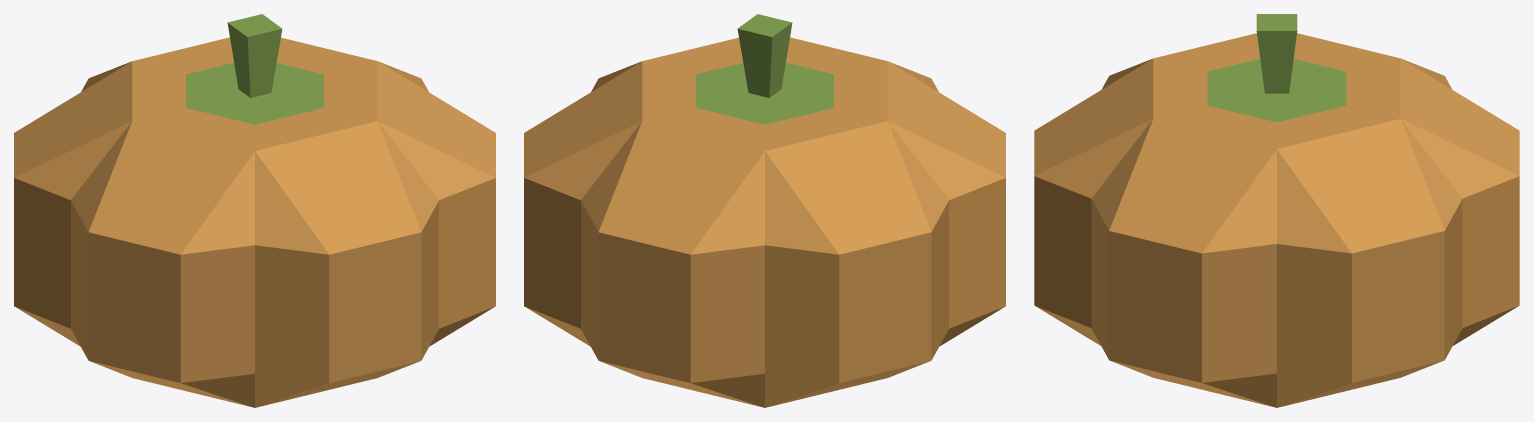
File: crop_pumpkin.glb
3 views of the same model, side by side, from view 1: azimuth 30°, elevation 25°; view 2: azimuth 150°, elevation 25°; view 3: azimuth 270°, elevation 25° (orthographic).
Visible parts, largest first — view 1: crop_pumpkin; view 2: crop_pumpkin; view 3: crop_pumpkin.
Boxes of the visible parts, <box> form: crop_pumpkin: <box>14,14,495,407</box>; crop_pumpkin: <box>524,14,1005,407</box>; crop_pumpkin: <box>1034,14,1519,407</box>.
Bounding box in the file's own units: 0.4413 × 0.3338 × 0.4519.
